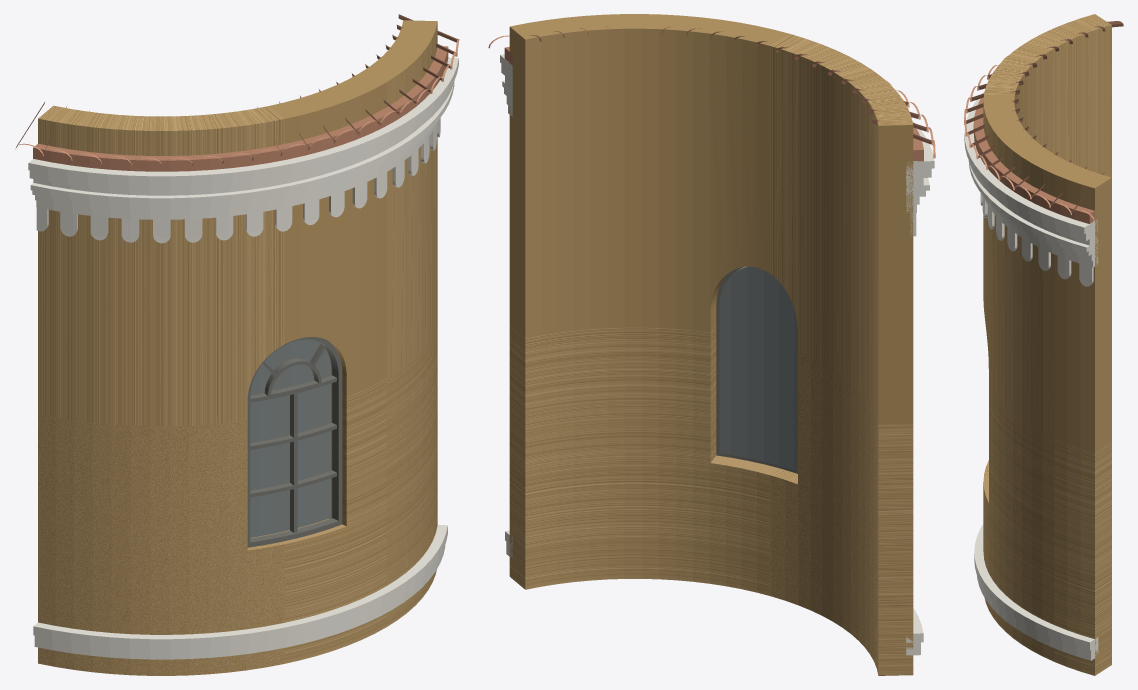
The model's file is tailaxincun-curved-bay-and-arched-window-far.glb.
The picture shows the model from 3 angles, left to right: view 1: azimuth 30°, elevation 25°; view 2: azimuth 150°, elevation 25°; view 3: azimuth 270°, elevation 25°; orthographic projection. The views are drawn at different scales.
Visible parts, largest first — view 1: 台拉新村支弄弧墙上的圆首钢窗与白色檐带; view 2: 台拉新村支弄弧墙上的圆首钢窗与白色檐带; view 3: 台拉新村支弄弧墙上的圆首钢窗与白色檐带.
Part boxes in pixels (<box>): 台拉新村支弄弧墙上的圆首钢窗与白色檐带: <box>15,14,459,675</box>; 台拉新村支弄弧墙上的圆首钢窗与白色檐带: <box>488,14,935,675</box>; 台拉新村支弄弧墙上的圆首钢窗与白色檐带: <box>964,14,1123,675</box>.
Size of the model in its own units: 2.6 by 3.08 by 0.9062.
6 materials, 1 textured.
